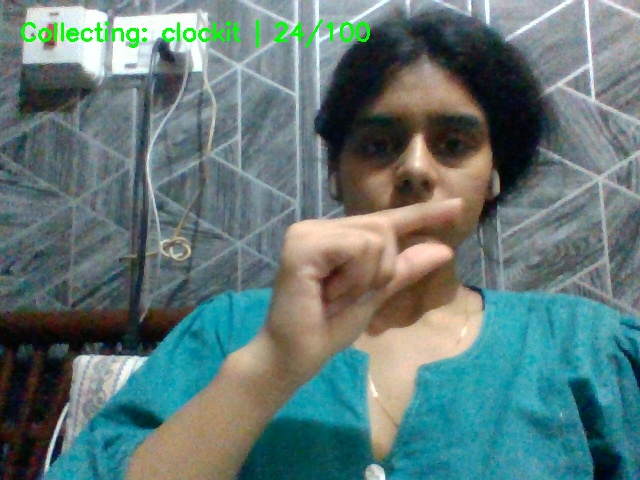clockit: (264, 194, 505, 370)
